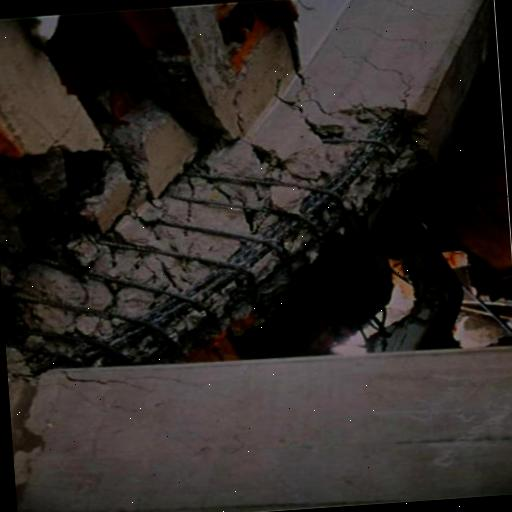spalling: (19, 108, 427, 370)
